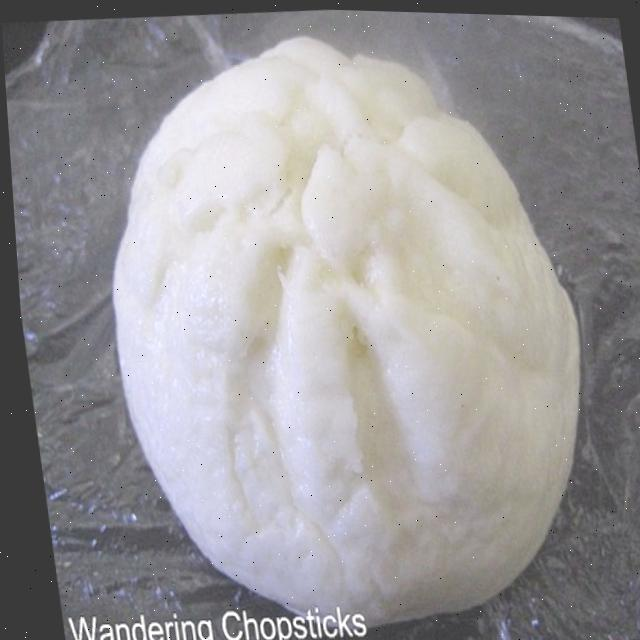带馅早点: (59, 9, 613, 634)
